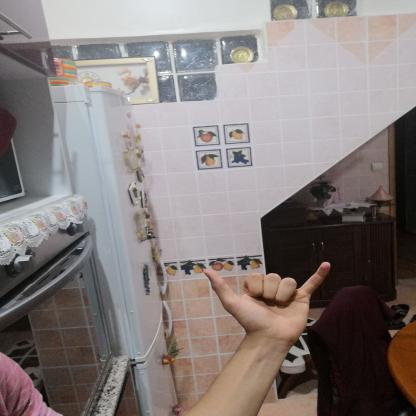YA: (192, 253, 340, 348)
